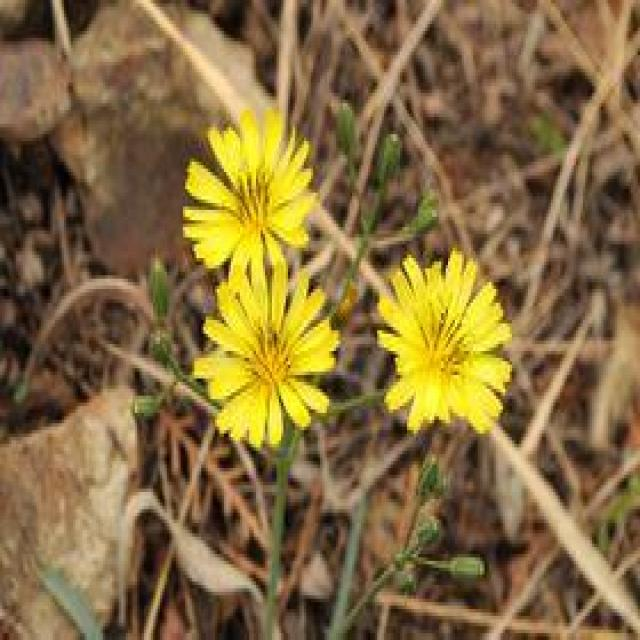organic waste: (375, 248, 523, 444), (202, 260, 344, 446), (179, 108, 326, 277)
